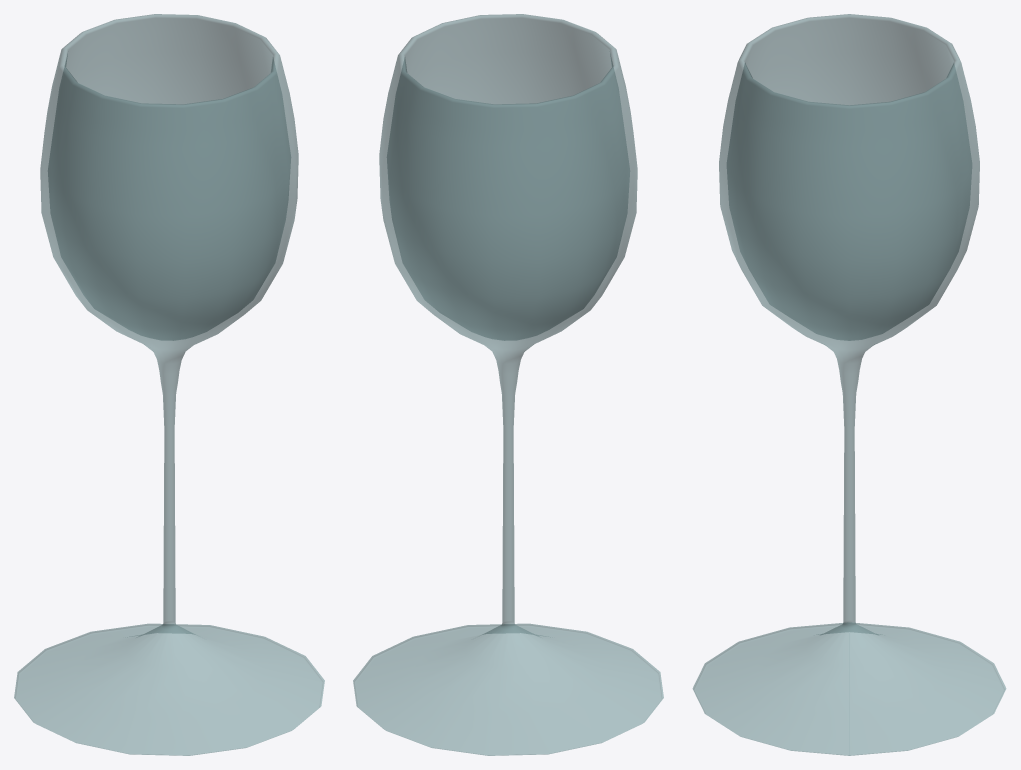
File: SM_Wineglass_01.fbx
3 views of the same model, side by side, from view 1: azimuth 30°, elevation 25°; view 2: azimuth 150°, elevation 25°; view 3: azimuth 270°, elevation 25° (orthographic).
Visible parts, largest first — view 1: SM_Wineglass_01; view 2: SM_Wineglass_01; view 3: SM_Wineglass_01.
Part boxes in pixels (x1=…): SM_Wineglass_01: x1=14, y1=14, x2=324, y2=755; SM_Wineglass_01: x1=353, y1=14, x2=663, y2=755; SM_Wineglass_01: x1=692, y1=14, x2=1006, y2=755.
Bounding box in the file's own units: 7.43 × 16.47 × 7.43.
